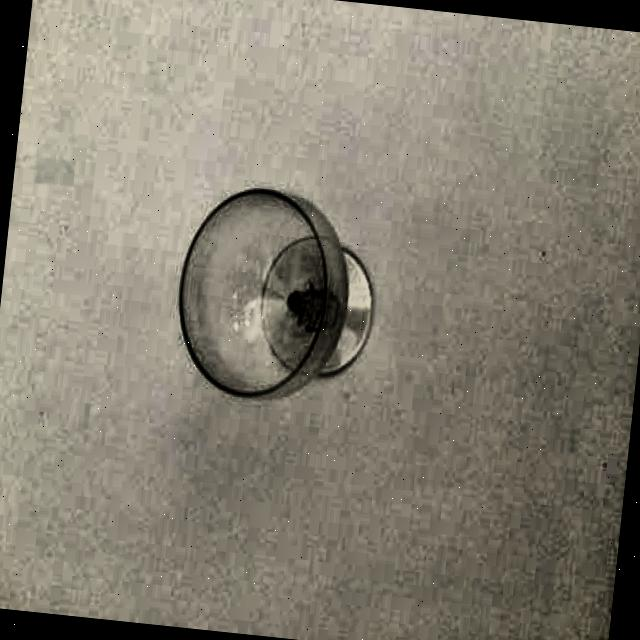glass: (164, 178, 385, 412)
